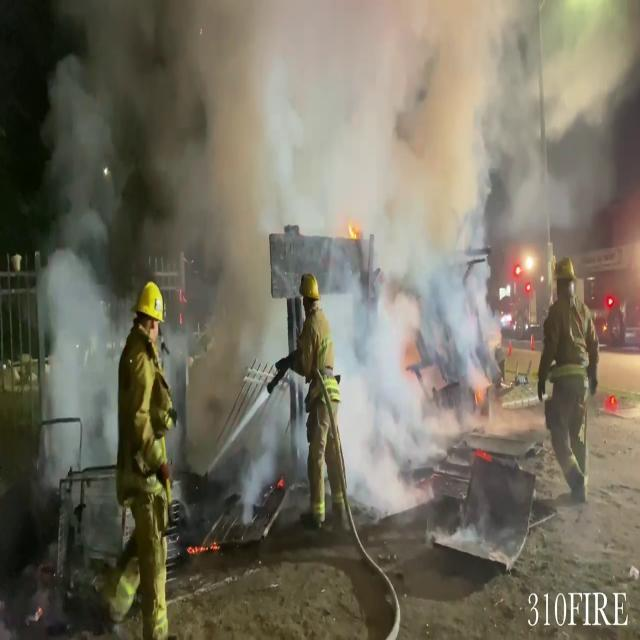Smoke: (26, 1, 515, 536), (424, 0, 640, 251)
